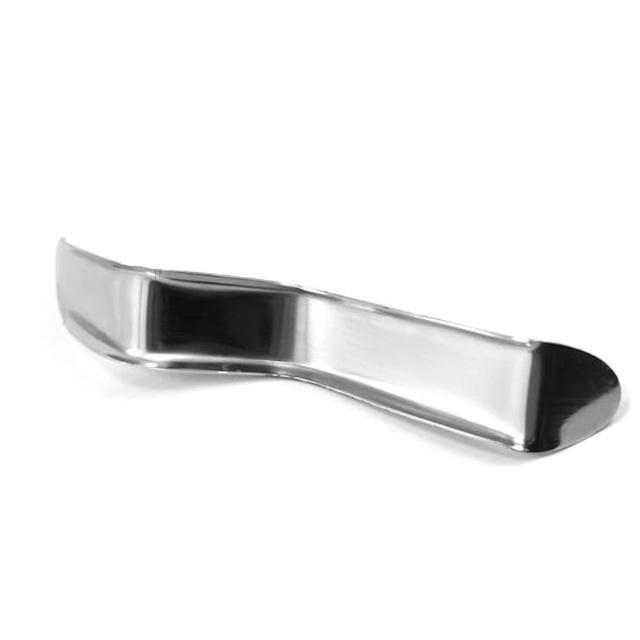separador: (53, 237, 626, 459)
